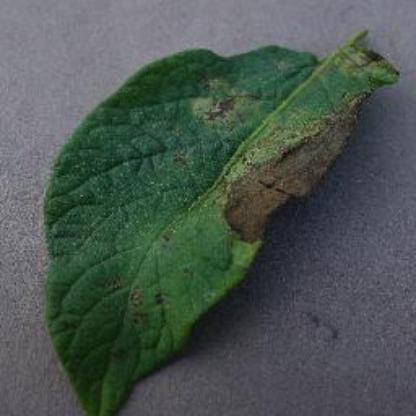Late-Blight: (38, 26, 398, 416)
